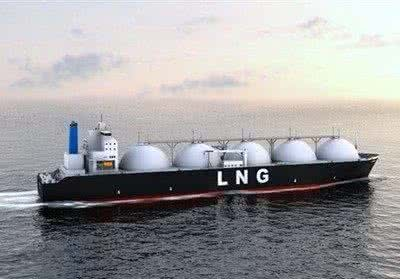Cargoship: (35, 109, 378, 206)
